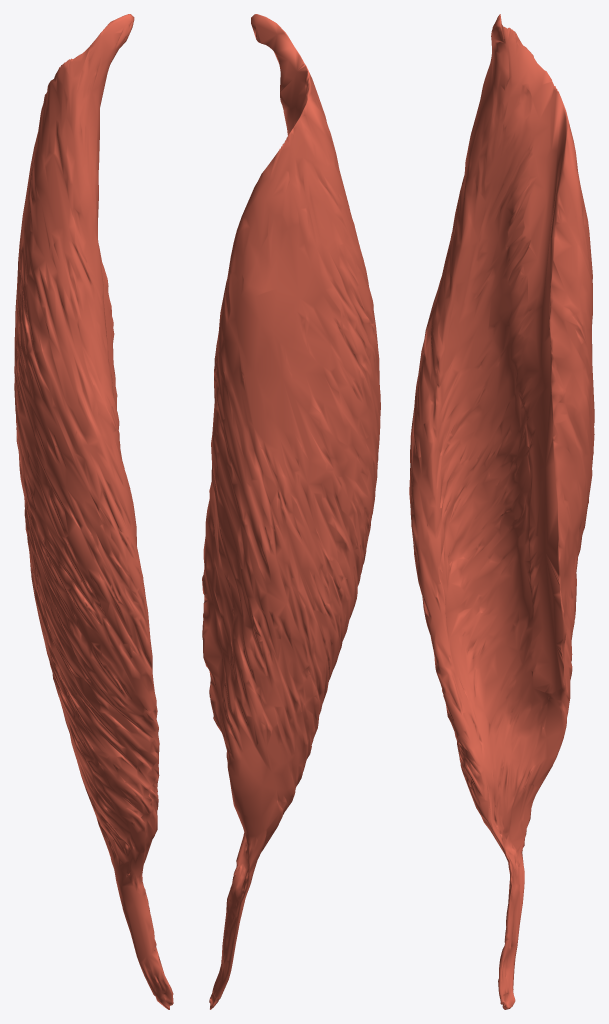
The model's file is vastus-lateralis.glb.
3 renders of one model, left to right at view 1: azimuth 30°, elevation 25°; view 2: azimuth 150°, elevation 25°; view 3: azimuth 270°, elevation 25°, orthographic. The views are drawn at different scales.
Parts seen in each view (by area): view 1: Vastus lateralis muscle.r; view 2: Vastus lateralis muscle.r; view 3: Vastus lateralis muscle.r.
Boxes of the visible parts, x1=… form: Vastus lateralis muscle.r: x1=14, y1=14, x2=173, y2=1009; Vastus lateralis muscle.r: x1=202, y1=14, x2=380, y2=1009; Vastus lateralis muscle.r: x1=409, y1=14, x2=594, y2=1009.
Bounding box in the file's own units: 0.0741 × 0.4573 × 0.0792.
